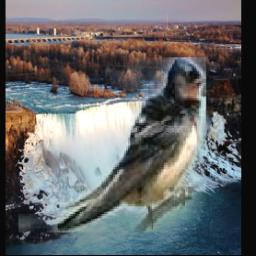Swallow: (18, 58, 206, 233)
